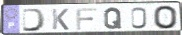0: (130, 7, 148, 30)
D: (21, 7, 47, 32)
F: (75, 7, 98, 31)
K: (50, 8, 70, 31)
O: (152, 5, 180, 30)
Q: (103, 7, 124, 30)
